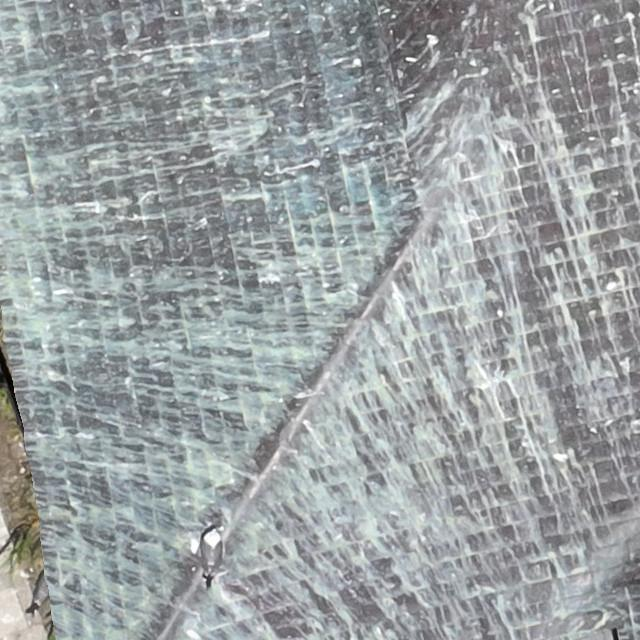umineko: (202, 532, 220, 572)
